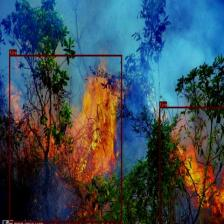fire: (9, 54, 122, 222), (159, 106, 224, 224)
